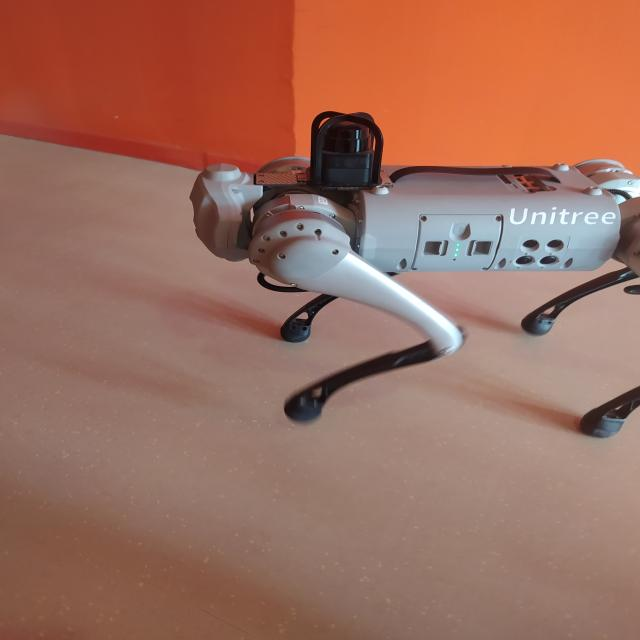unitree-go1-robot: (178, 103, 640, 436)
